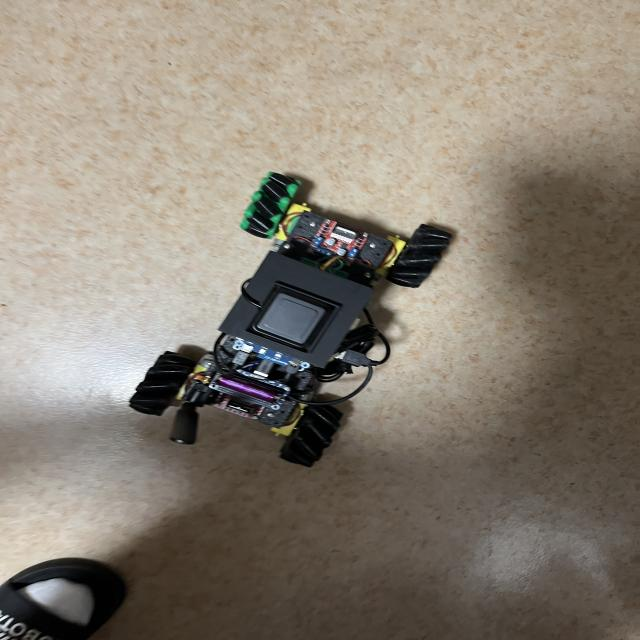robot: (130, 172, 451, 466)
